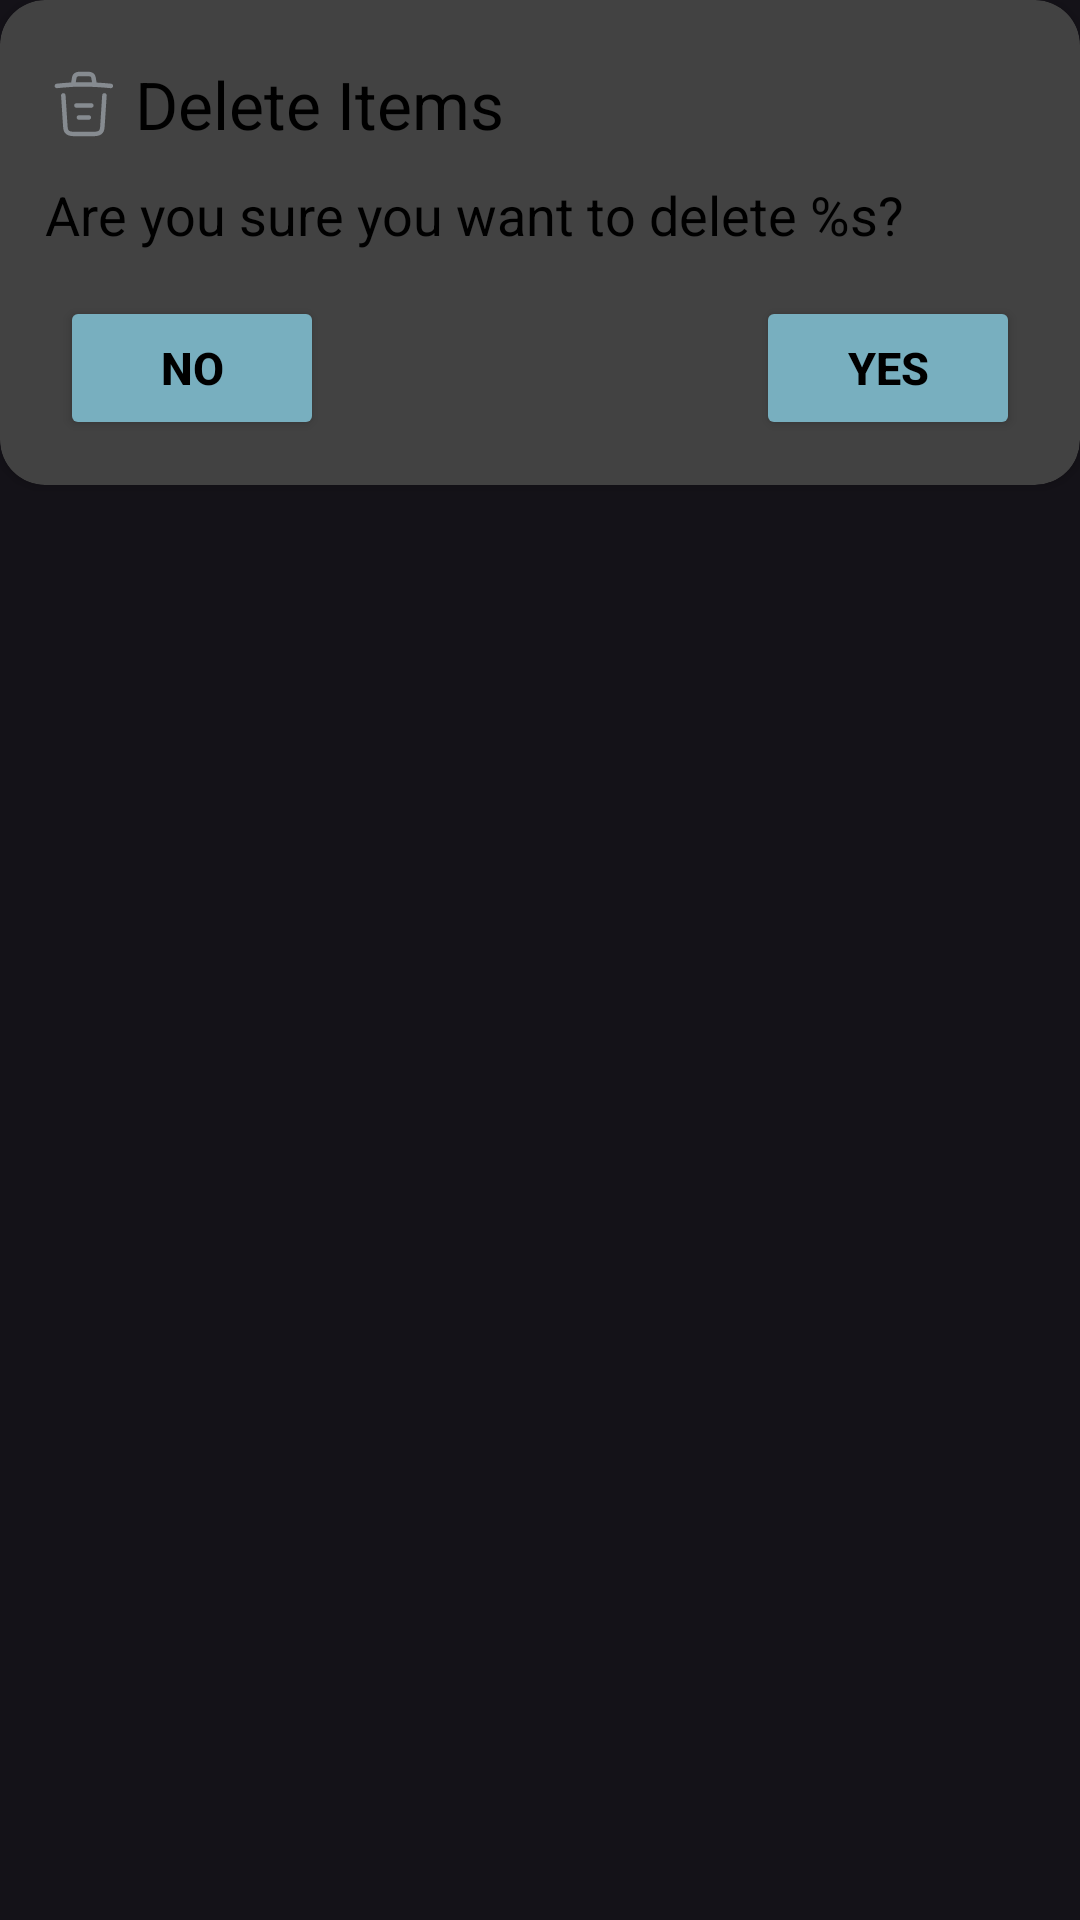

Icon click points for this 1080*1920 phone screenshot, format [x,y]:
item delete: [84,104]
